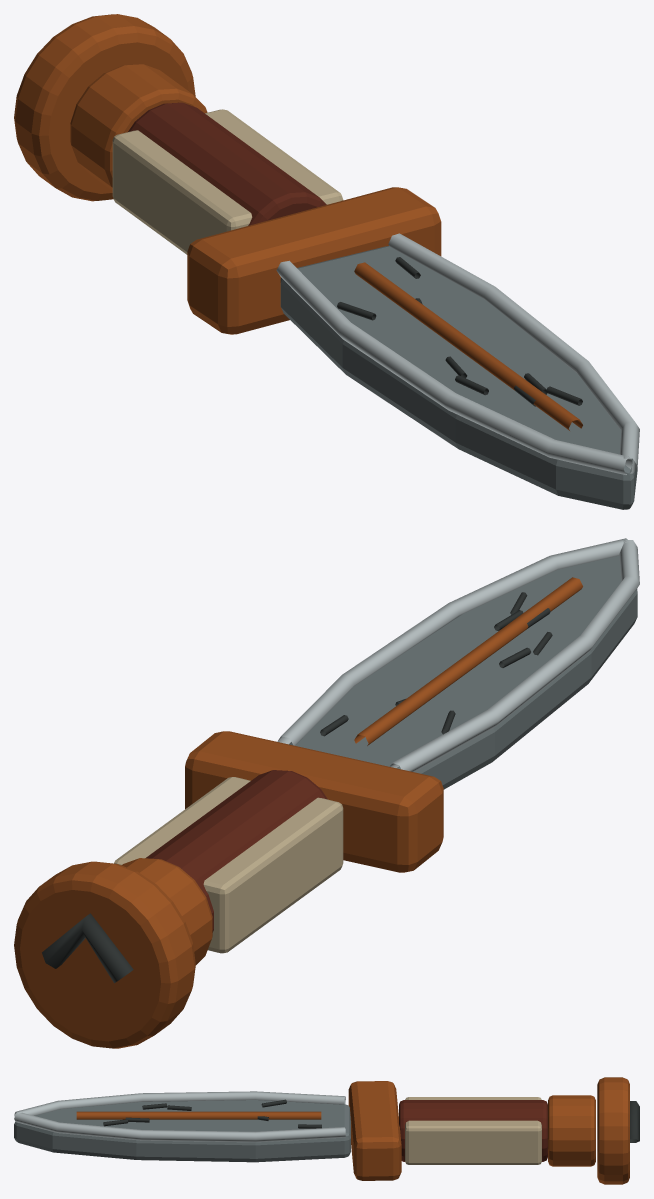
The model's file is short_blade_LOD0.glb.
3 views of the same model, one above another, from view 1: azimuth 30°, elevation 25°; view 2: azimuth 150°, elevation 25°; view 3: azimuth 270°, elevation 25° (orthographic). The views are drawn at different scales.
Visible parts, largest first — view 1: ShortLeafBlade, ShortBladeGuard, ShortBladeDiscPommel, ShortBladeGripCore, ShortBladeBoneScale, ShortBladeLeftEdge, ShortBladePommelNeck, ShortBladeRightEdge, ShortBladeFuller, ShortBladeBoneScale.001; view 2: ShortLeafBlade, ShortBladeDiscPommel, ShortBladeGuard, ShortBladeBoneScale, ShortBladeGripCore, ShortBladeRightEdge, ShortBladeLeftEdge, ShortBladeFuller, ShortBladePommelNeck, ShortBladePommelMark, ShortBladeBoneScale.001; view 3: ShortLeafBlade, ShortBladeBoneScale.001, ShortBladeGuard, ShortBladeRightEdge, ShortBladeGripCore, ShortBladeDiscPommel, ShortBladePommelNeck, ShortBladeLeftEdge, ShortBladeFuller, ShortBladePommelMark, ShortBladeBoneScale.
Boxes of the visible parts, box(x1,y1,x2,y2) form: ShortLeafBlade: box(280, 246, 637, 509); ShortBladeGuard: box(187, 187, 441, 334); ShortBladeDiscPommel: box(14, 14, 195, 201); ShortBladeGripCore: box(128, 102, 326, 225); ShortBladeBoneScale: box(112, 130, 252, 254); ShortBladeLeftEdge: box(276, 260, 632, 474); ShortBladePommelNeck: box(70, 64, 207, 190); ShortBladeRightEdge: box(388, 233, 639, 473); ShortBladeFuller: box(354, 262, 582, 430); ShortBladeBoneScale.001: box(205, 109, 343, 204); ShortLeafBlade: box(289, 555, 637, 789); ShortBladeDiscPommel: box(14, 861, 195, 1048); ShortBladeGuard: box(185, 731, 443, 872); ShortBladeBoneScale: box(203, 797, 343, 953); ShortBladeGripCore: box(145, 770, 327, 932); ShortBladeRightEdge: box(277, 538, 628, 745); ShortBladeLeftEdge: box(390, 540, 639, 771); ShortBladeFuller: box(354, 577, 582, 745); ShortBladePommelNeck: box(121, 858, 212, 964); ShortBladePommelMark: box(42, 913, 133, 983); ShortBladeBoneScale.001: box(114, 777, 250, 865); ShortLeafBlade: box(14, 1100, 350, 1162); ShortBladeBoneScale.001: box(405, 1120, 541, 1164); ShortBladeGuard: box(348, 1081, 401, 1180); ShortBladeRightEdge: box(14, 1112, 345, 1142); ShortBladeGripCore: box(399, 1100, 547, 1161); ShortBladeDiscPommel: box(597, 1077, 629, 1184); ShortBladePommelNeck: box(548, 1095, 595, 1166); ShortBladeLeftEdge: box(14, 1091, 345, 1116); ShortBladeFuller: box(76, 1111, 321, 1119); ShortBladePommelMark: box(630, 1101, 639, 1142); ShortBladeBoneScale: box(405, 1097, 541, 1099).
Size of the model in its own units: 0.2518 by 0.18 by 1.05.
